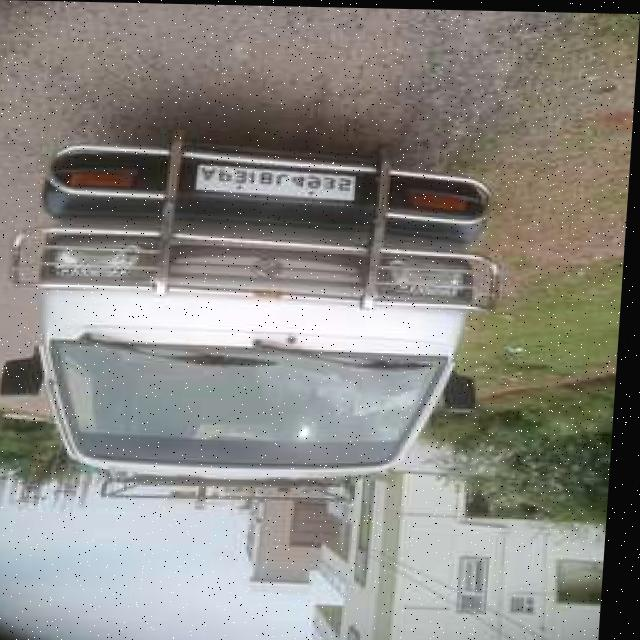plate: (197, 160, 363, 202)
